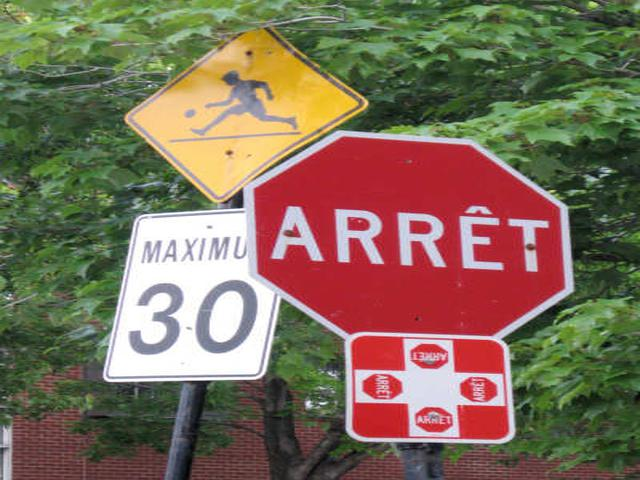stop: (241, 132, 577, 341)
vitesse: (101, 210, 274, 385)
